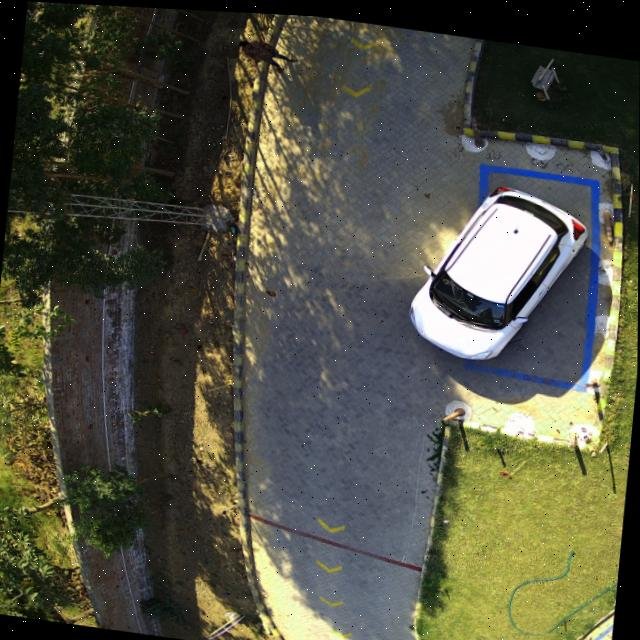car: (411, 185, 587, 354)
